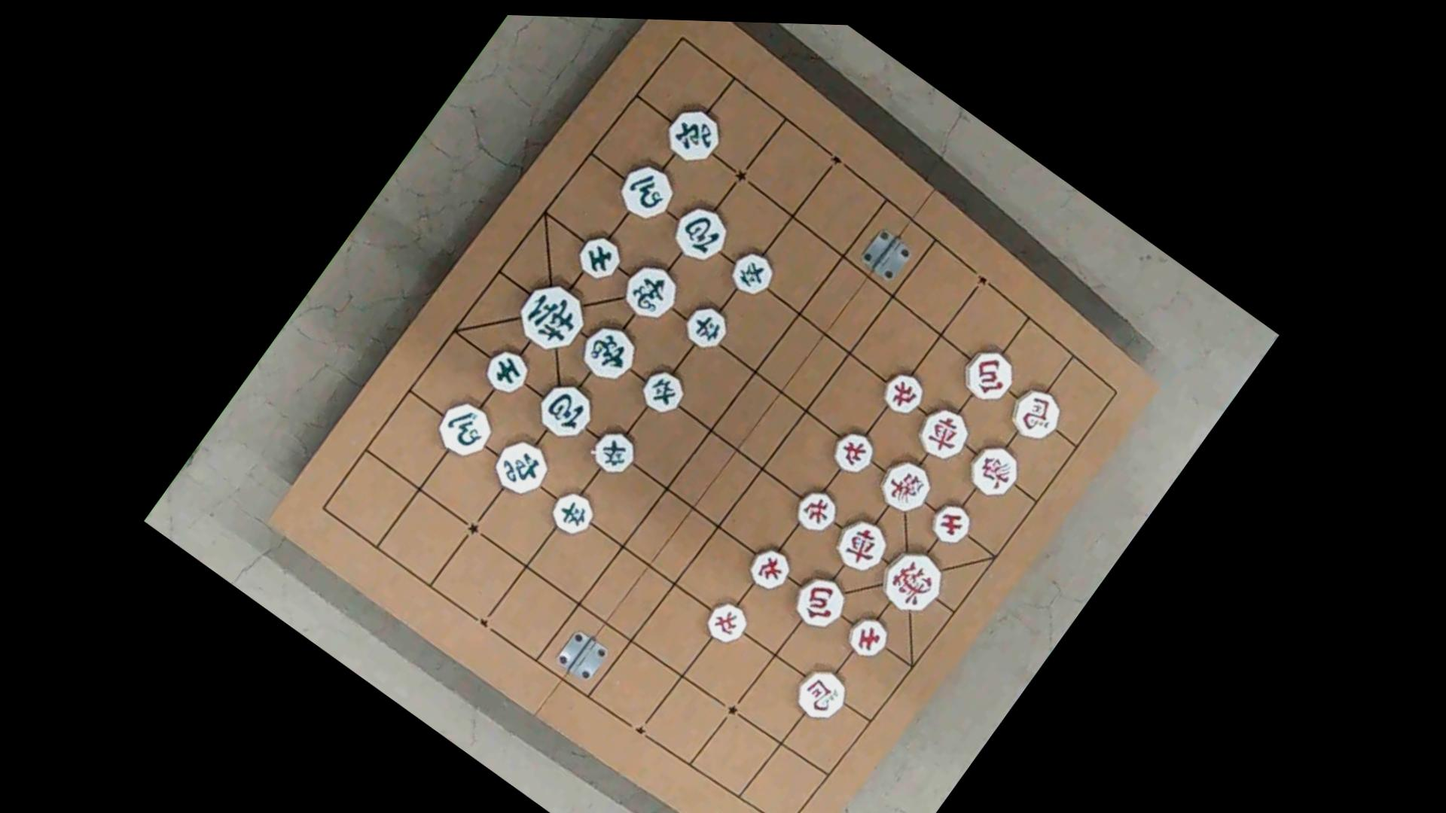cha_green: (486, 432, 557, 503), (658, 101, 728, 171)
cha_red: (828, 512, 895, 579), (911, 400, 976, 467)
jol_green: (586, 424, 642, 480), (544, 486, 600, 541), (635, 364, 690, 419), (679, 300, 734, 355), (725, 245, 779, 301)
jol_red: (876, 365, 931, 420), (827, 425, 880, 480), (789, 485, 843, 538), (743, 542, 797, 595), (700, 596, 753, 649)
ma_green: (612, 157, 682, 227), (430, 394, 500, 464)
ma_red: (1002, 381, 1069, 447), (788, 661, 853, 727)
po_green: (530, 375, 601, 446), (666, 198, 736, 269)
po_red: (786, 568, 853, 636), (955, 343, 1022, 409)
sa_green: (479, 344, 535, 399), (572, 230, 627, 285)
sa_red: (840, 610, 895, 665), (924, 496, 978, 550)
sang_green: (572, 316, 645, 388), (615, 257, 686, 327)
sang_red: (960, 437, 1027, 504), (872, 452, 939, 519)
wang_green: (509, 273, 596, 361)
wang_red: (873, 542, 952, 622)
